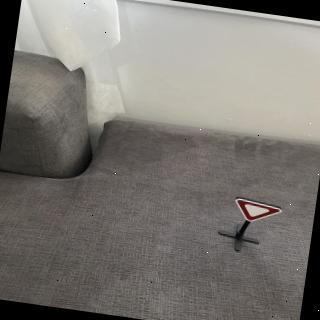sign_yield: (233, 196, 285, 228)
